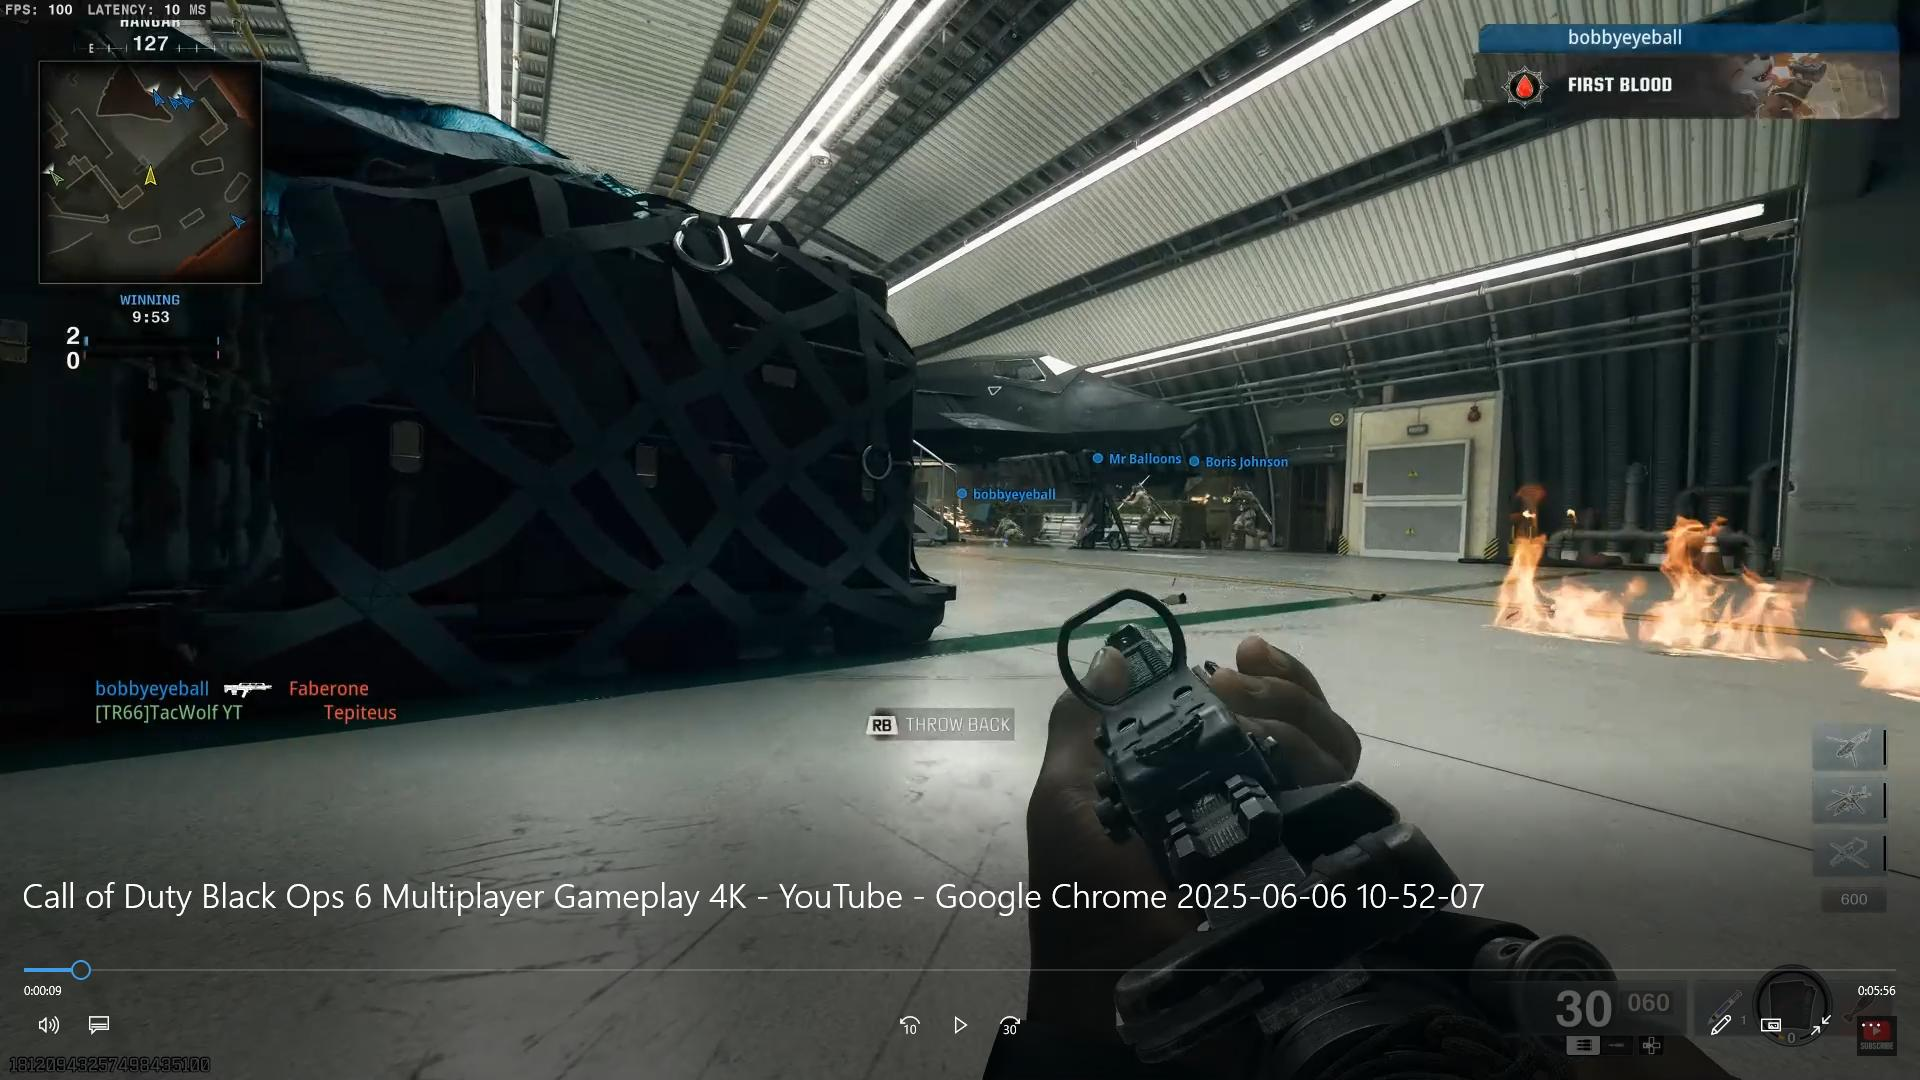Enemy: (1116, 475, 1170, 547), (1215, 477, 1269, 545), (990, 513, 1026, 546)
